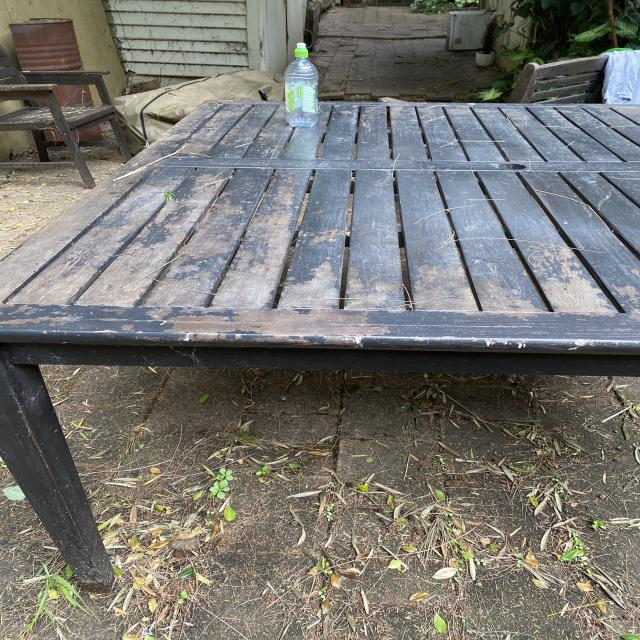bag: (607, 44, 640, 110)
bottle: (288, 40, 322, 127)
container: (476, 51, 504, 71)
